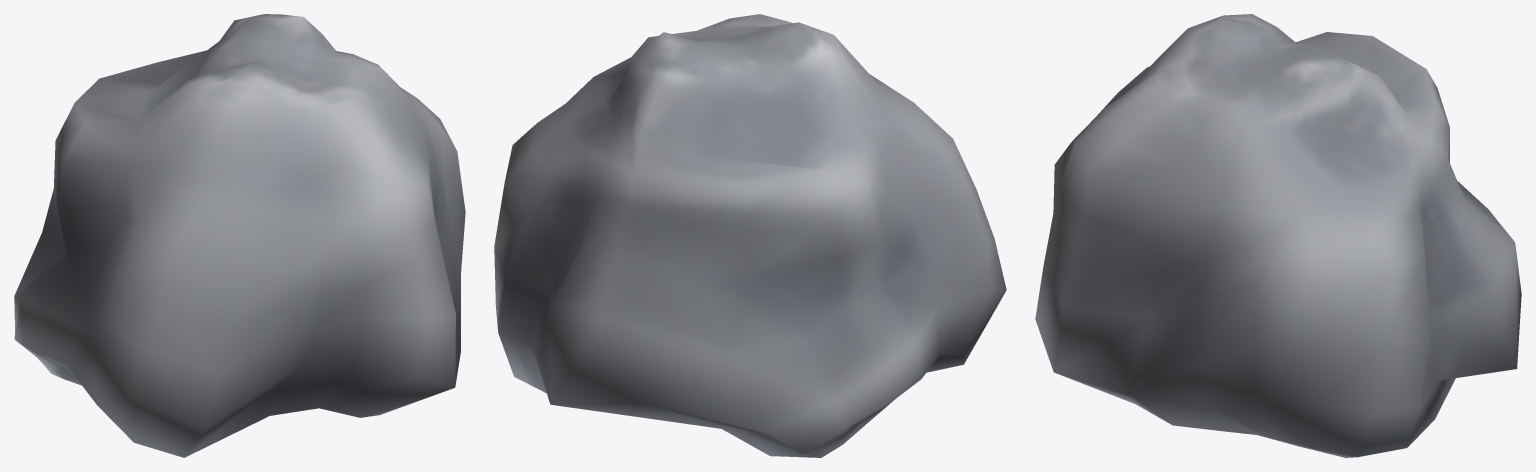
Rendered from Rock1.fbx.
The picture shows the model from 3 angles, left to right: view 1: azimuth 30°, elevation 25°; view 2: azimuth 150°, elevation 25°; view 3: azimuth 270°, elevation 25°; orthographic projection.
Parts seen in each view (by area): view 1: Rock1_LOD0; view 2: Rock1_LOD0; view 3: Rock1_LOD0.
Part boxes in pixels (bbox=[...]): Rock1_LOD0: bbox=[14, 14, 465, 457]; Rock1_LOD0: bbox=[494, 14, 1006, 457]; Rock1_LOD0: bbox=[1035, 14, 1521, 457].
Size of what is drawn, in the model's own units: 2.04 by 1.64 by 2.02.
Materials: 1 (1 with a texture image).
